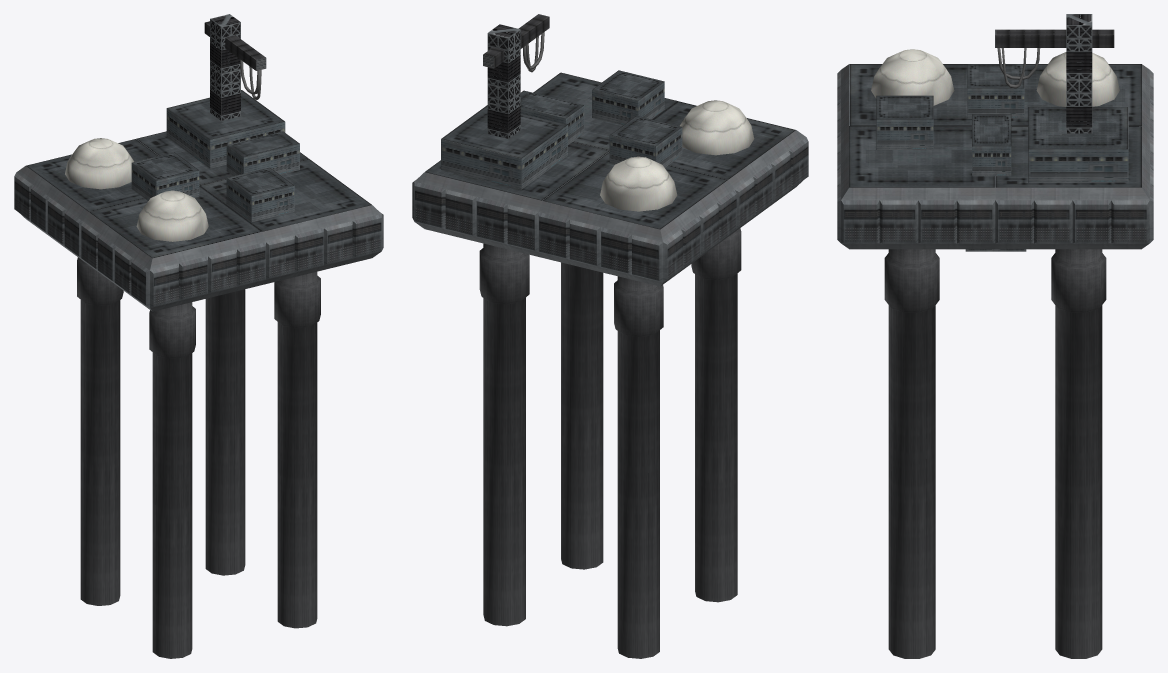
Rendered from Platform.fbx.
3 renders of one model, left to right at view 1: azimuth 30°, elevation 25°; view 2: azimuth 150°, elevation 25°; view 3: azimuth 270°, elevation 25°, orthographic. The views are drawn at different scales.
Parts seen in each view (by area): view 1: Platform; view 2: Platform; view 3: Platform.
Boxes of the visible parts, x1,y1,x2,y2 form: Platform: (14,14,383,658); Platform: (412,14,808,658); Platform: (837,14,1153,658).
Bounding box in the file's own units: 243 × 535 × 243.
